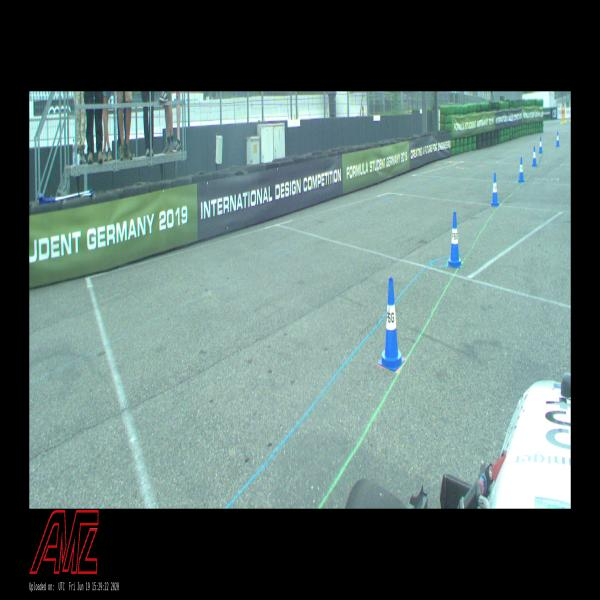blue_cone: (378, 277, 404, 371), (448, 212, 461, 267), (491, 174, 499, 206), (518, 157, 524, 182), (532, 146, 537, 166), (538, 137, 543, 153), (556, 132, 560, 146)
